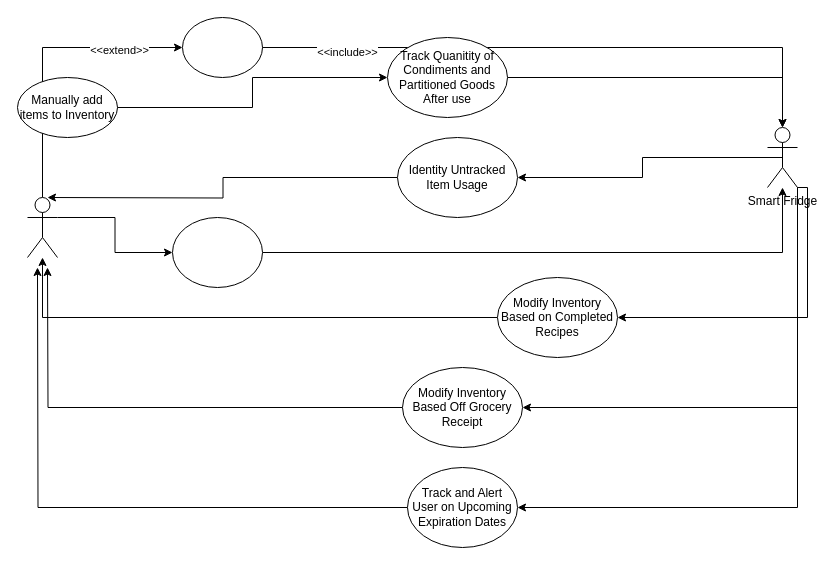
This 834x565 diagram has some shape labels left out. The shapes that lost their labels are listed below. From the top down, each one's centre as x and y in pixels, then its label:
(222,47): Scan Grocery Items into inventory
(42,227): User
(217,252): Remove Items from inventory
